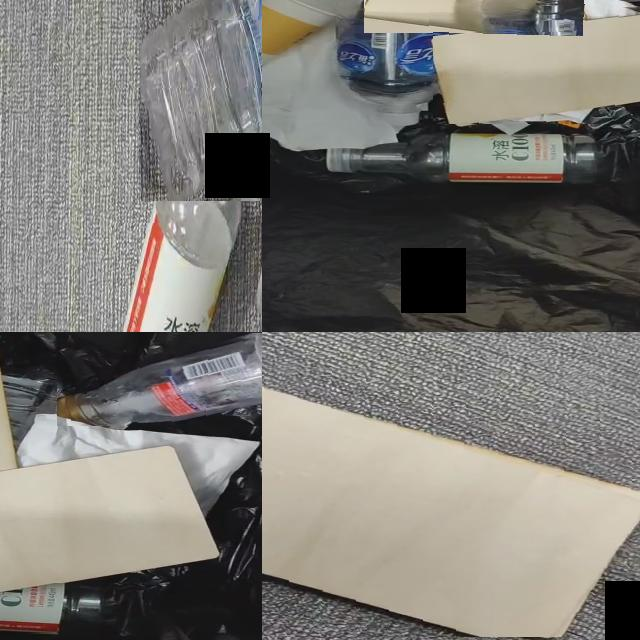bottle: (123, 20, 262, 332), (140, 0, 262, 201), (57, 338, 262, 426), (325, 133, 614, 184), (337, 0, 465, 114), (0, 583, 118, 633)
carton: (262, 386, 640, 637), (0, 448, 217, 592), (433, 15, 640, 124), (365, 0, 542, 32)
dixie_cup: (262, 0, 335, 64)
paper: (17, 414, 258, 516), (262, 28, 396, 151), (490, 105, 597, 134), (580, 0, 637, 15)
